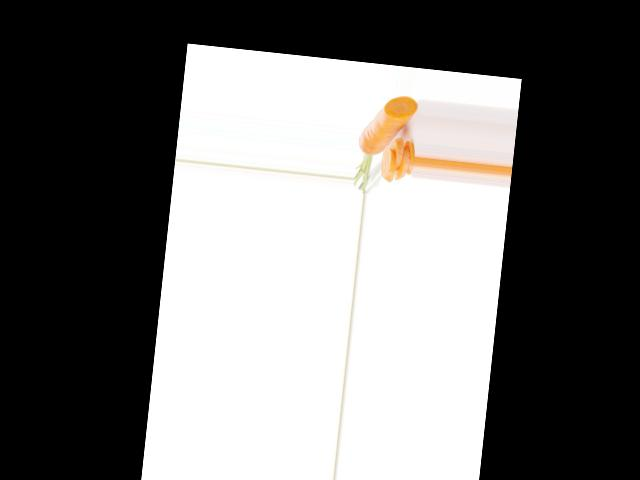carrot: (357, 95, 415, 159)
